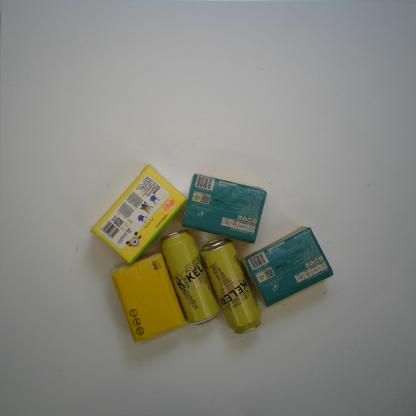Alcohol: (199, 237, 262, 334), (160, 228, 220, 327)
Tissue: (89, 163, 188, 265), (240, 225, 334, 309), (109, 251, 187, 344), (180, 172, 267, 245)
